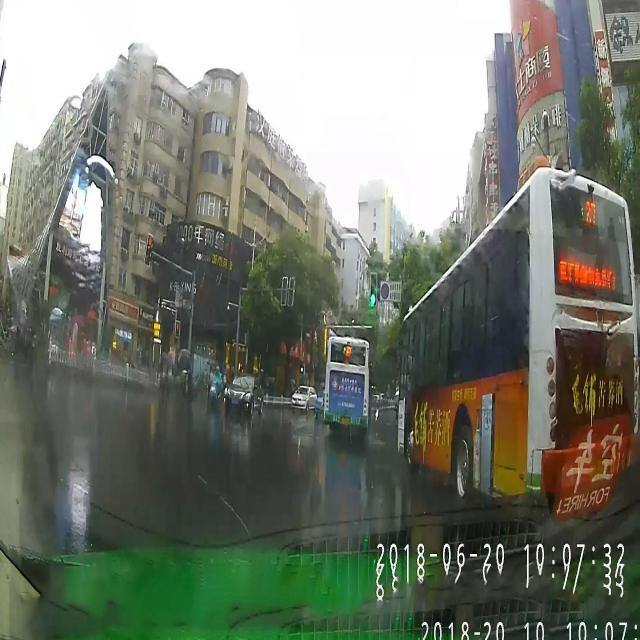car: (222, 372, 266, 419), (290, 376, 316, 420)
